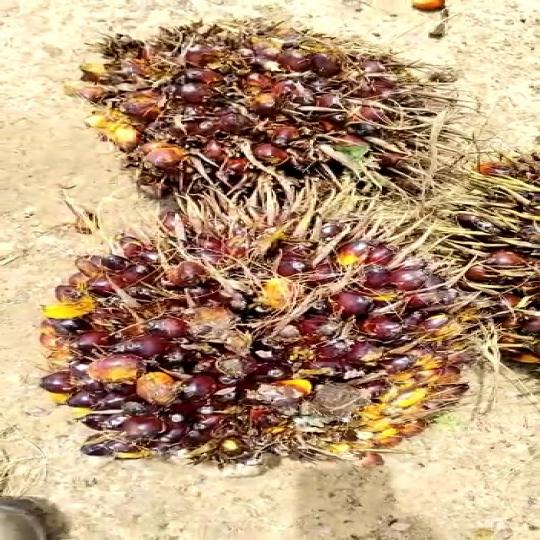masak: (59, 204, 492, 492), (63, 11, 491, 196)
